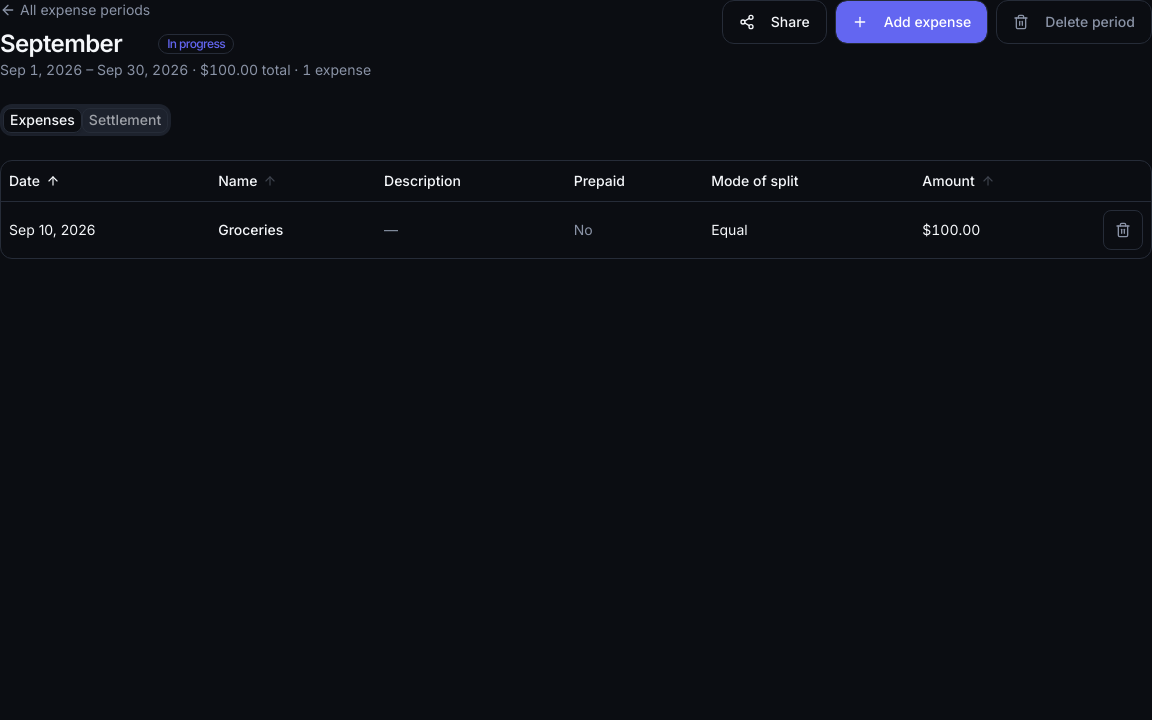
Test: checklist: expenses › deletes an expense after confirmation, and only when confirmed
This screenshot has width=1152, height=720.
Check: the button "Groceries" is shown, box 218,220 -> 283,240
Click the button named "delete groceries" at (1123, 230), box 1103,210 -> 1143,250
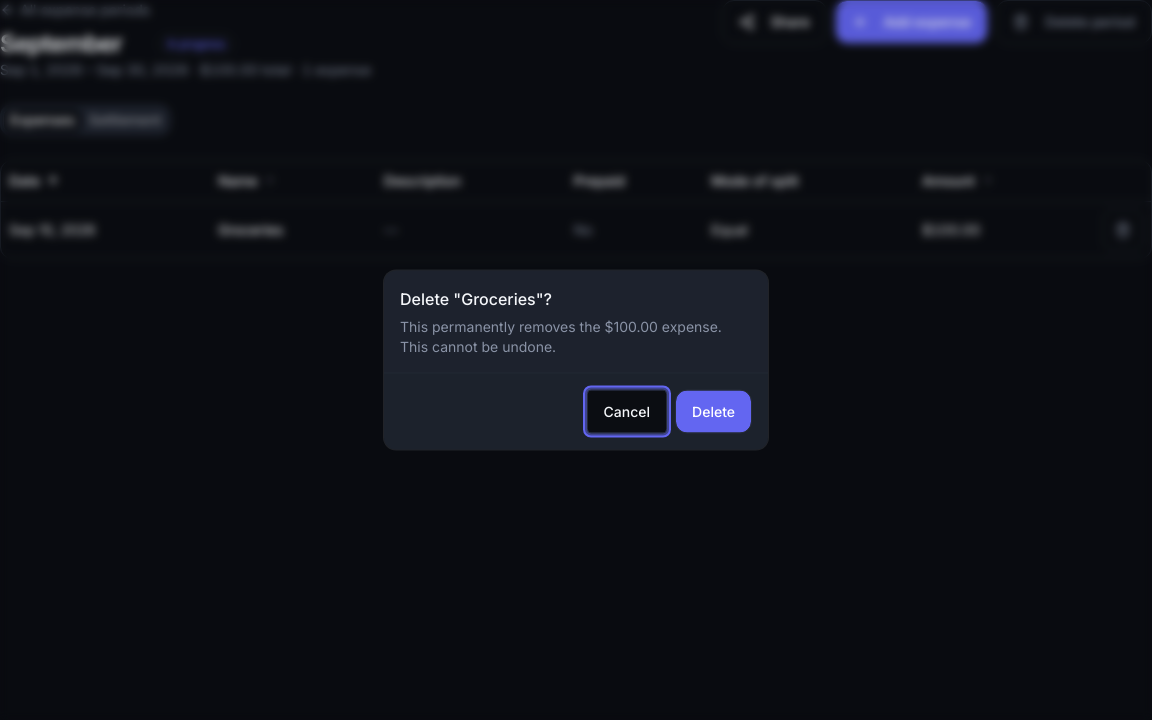
Check: the text "permanently removes the $100.00 expense" is shown, box 400,318 -> 722,354
# Backing out leaves the expense alone.
Click the button "Cancel" at (627, 412), box 587,390 -> 667,434
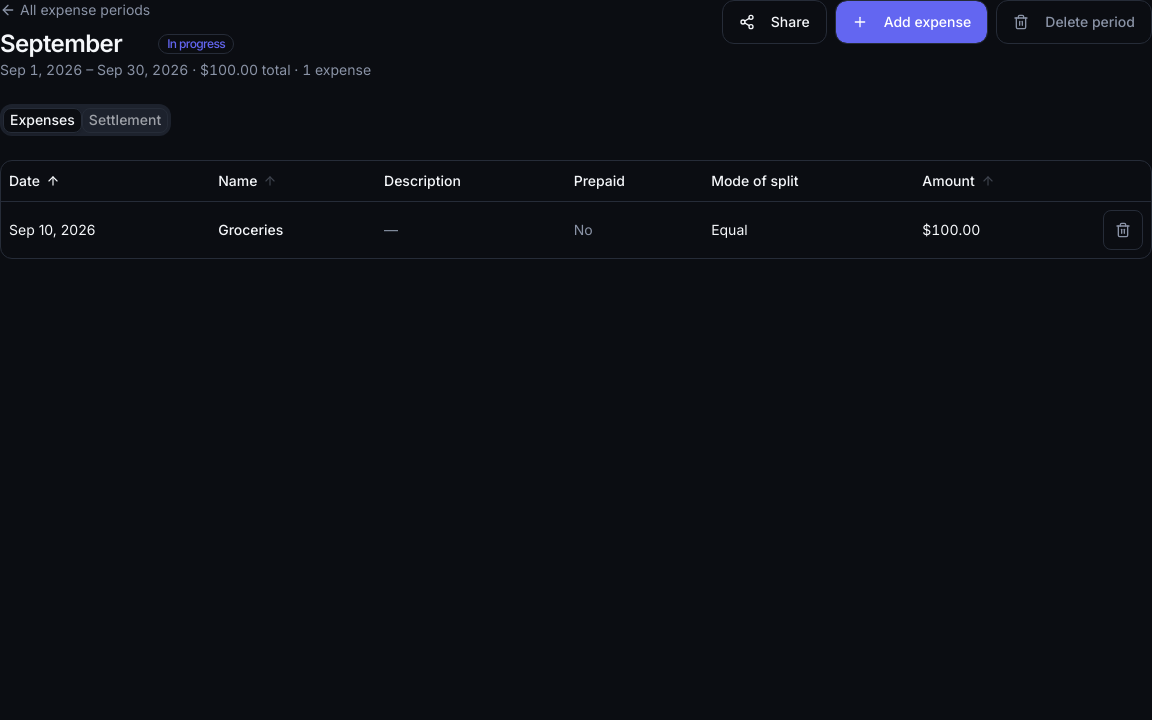
Check: the button "Groceries" is shown, box 218,220 -> 283,240
# Confirming removes it and updates the period total.
Click the button named "delete groceries" at (1123, 230), box 1103,210 -> 1143,250
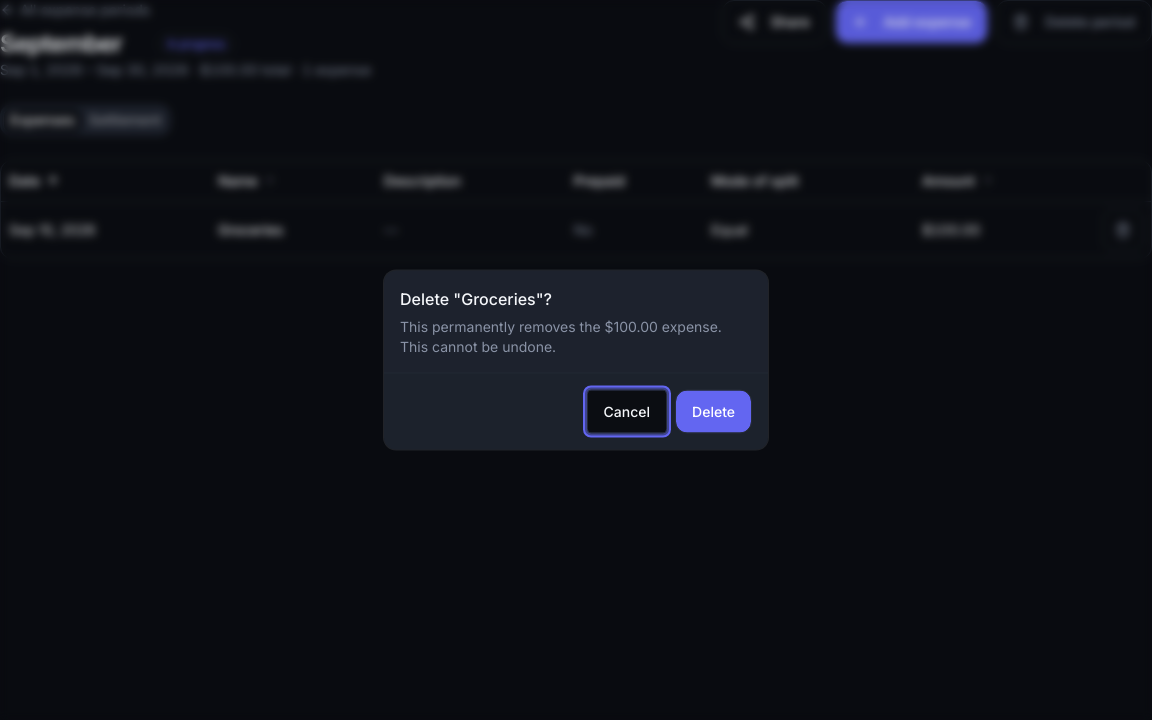
Click the button "Delete" at (714, 412), box 675,390 -> 752,434
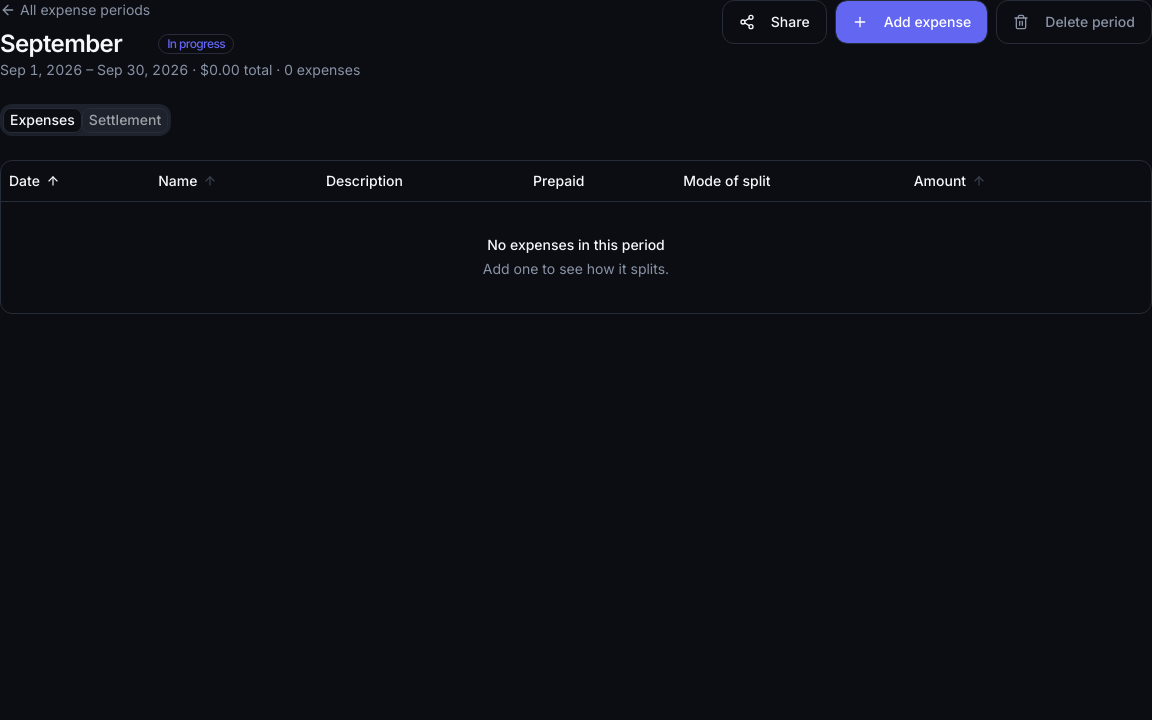
Check: the button "Groceries" is gone
